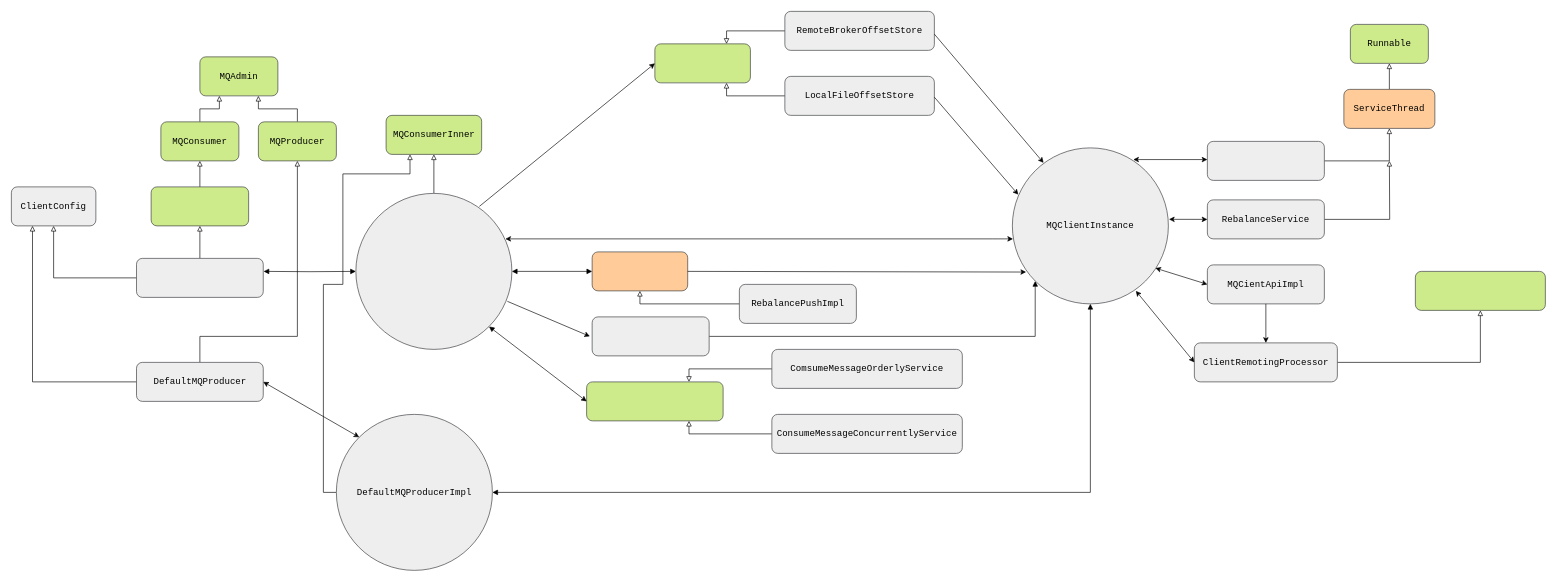
Image size: 1557x582. Some labels were removed from this diagram. Here are the shapes that lost their labels. From the top down, the centre of each, then its label:
At pixel 702 63: "OffsetStore".
At pixel 1265 160: "PullMessageService".
At pixel 199 206: "MQPushConsumer".
At pixel 199 277: "DefaultMQPushConsumer".
At pixel 433 271: "DefaultMQPushConsumerImpl".
At pixel 640 271: "RebalanceImpl".
At pixel 1480 290: "NettyRequestProcessor".
At pixel 650 336: "PullAPIWrapper".
At pixel 654 401: "ComsumeMessageService".
